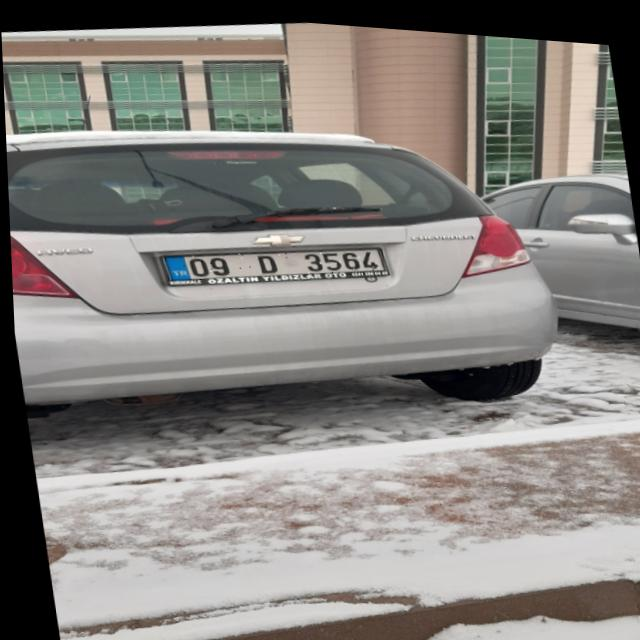license_plate: (161, 230, 384, 291)
